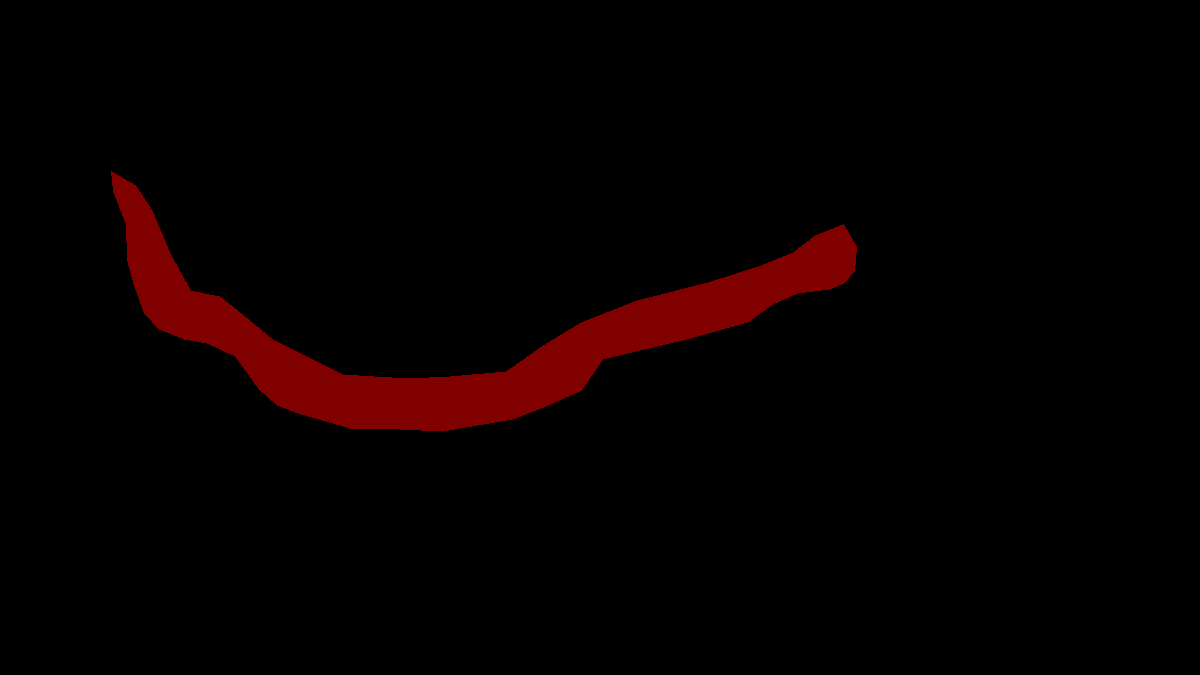fire: (111, 171, 856, 431)
